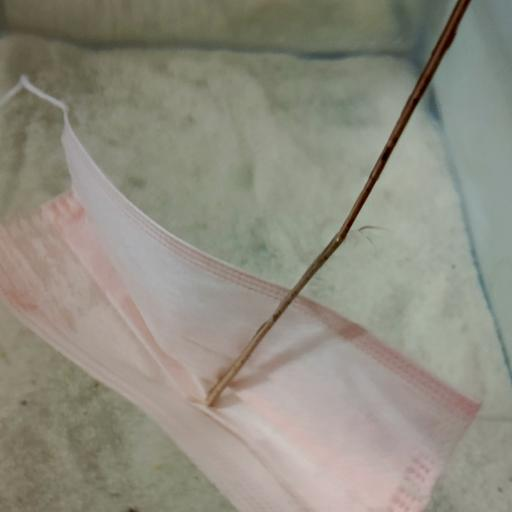mask: (5, 92, 478, 511)
